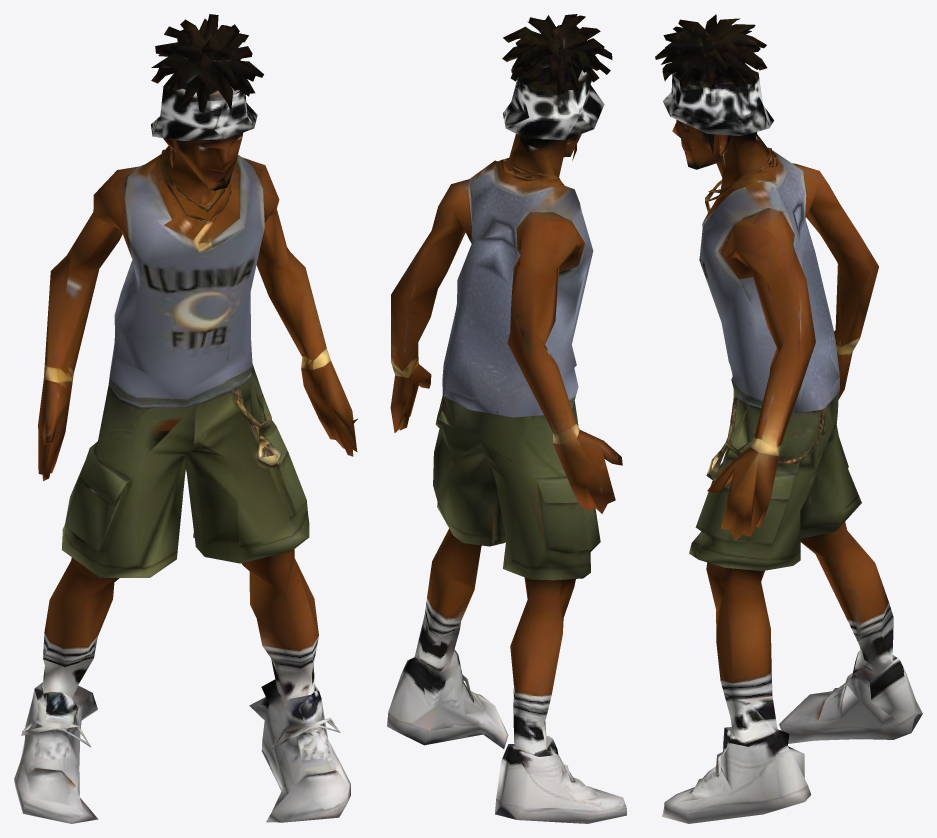
File: fan01.glb
3 renders of one model, left to right at view 1: azimuth 30°, elevation 25°; view 2: azimuth 150°, elevation 25°; view 3: azimuth 270°, elevation 25°, orthographic. The views are drawn at different scales.
Visible parts, largest first — view 1: material_proxy; view 2: material_proxy; view 3: material_proxy.
Boxes of the visible parts, x1,y1,x2,y2 form: material_proxy: [14, 14, 357, 823]; material_proxy: [387, 14, 626, 823]; material_proxy: [655, 14, 922, 823].
Bounding box in the file's own units: 0.427 × 1.14 × 0.3653.
1 material, 1 textured.
